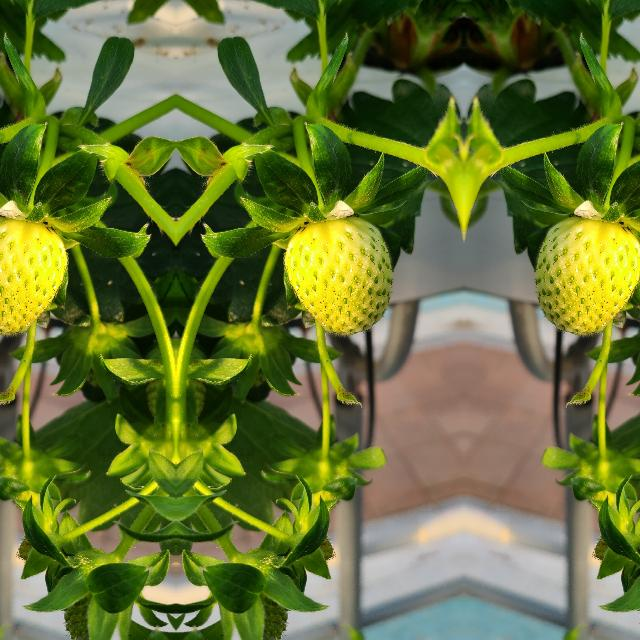Health_25: (282, 216, 392, 338), (533, 216, 640, 338), (0, 216, 68, 338)
